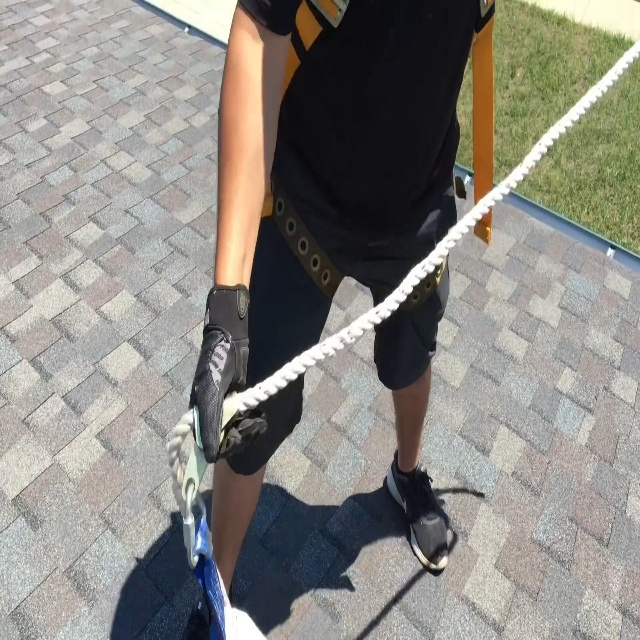Arnes_seguridad: (237, 0, 506, 328)
